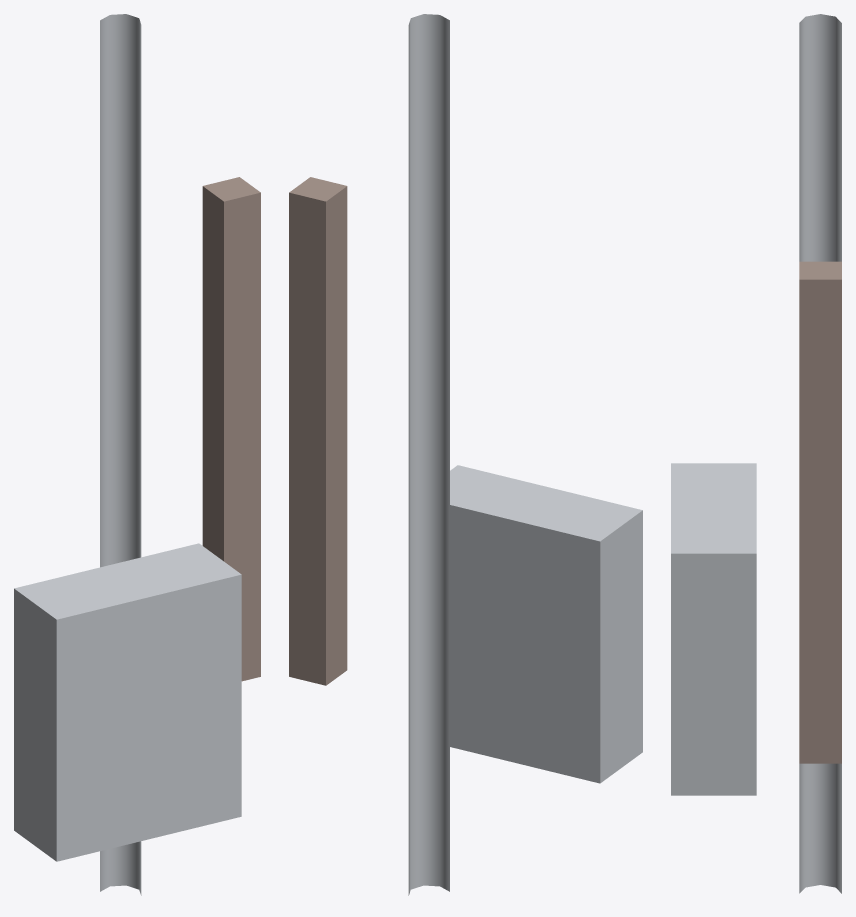
Rendered from prop.glb.
3 views of the same model, side by side, from view 1: azimuth 30°, elevation 25°; view 2: azimuth 150°, elevation 25°; view 3: azimuth 270°, elevation 25° (orthographic).
Parts seen in each view (by area): view 1: Metal, Cloth; view 2: Metal, Cloth; view 3: Metal, Cloth.
Boxes of the visible parts, x1,y1,x2,y2 form: Metal: (14, 14, 241, 895); Cloth: (202, 177, 260, 681); Metal: (408, 14, 642, 895); Cloth: (289, 177, 347, 685); Metal: (671, 14, 841, 893); Cloth: (799, 261, 841, 763).
Bounding box in the file's own units: 0.29 × 0.9 × 0.16.
